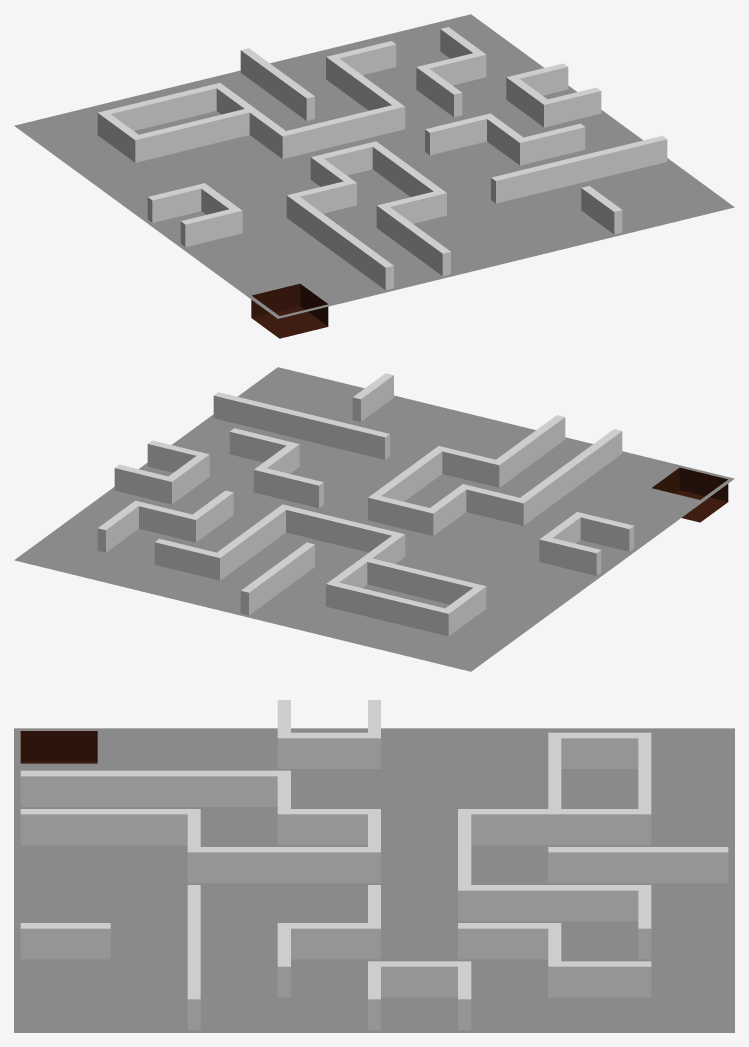
The model's file is LevelNoPitsOrColours.FBX.
3 views of the same model, one above another, from view 1: azimuth 30°, elevation 25°; view 2: azimuth 150°, elevation 25°; view 3: azimuth 270°, elevation 25° (orthographic). The views are drawn at different scales.
Visible parts, largest first — view 1: FloorThree, InnerWallsLevel2; view 2: FloorThree, InnerWallsLevel2; view 3: FloorThree, InnerWallsLevel2.
Part boxes in pixels (left/top/right/bottom): FloorThree: left=14, top=14, right=734, bottom=338; InnerWallsLevel2: left=97, top=27, right=667, bottom=290; FloorThree: left=14, top=367, right=734, bottom=671; InnerWallsLevel2: left=97, top=373, right=634, bottom=636; FloorThree: left=14, top=728, right=734, bottom=1032; InnerWallsLevel2: left=20, top=700, right=728, bottom=1029.
Bounding box in the file's own units: 551 × 52 × 551.
